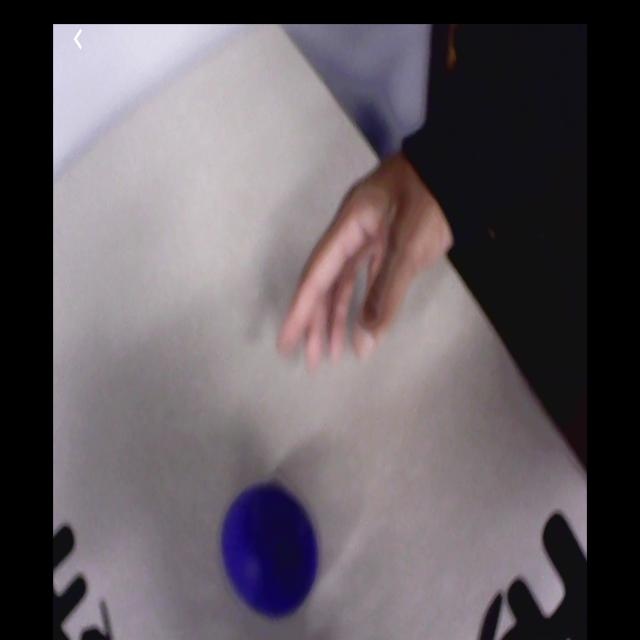ball: (224, 482, 319, 616)
